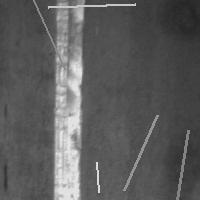scratches: (49, 1, 87, 199), (20, 0, 70, 74), (119, 110, 162, 195), (168, 125, 193, 200), (43, 0, 140, 12), (92, 157, 104, 197)
